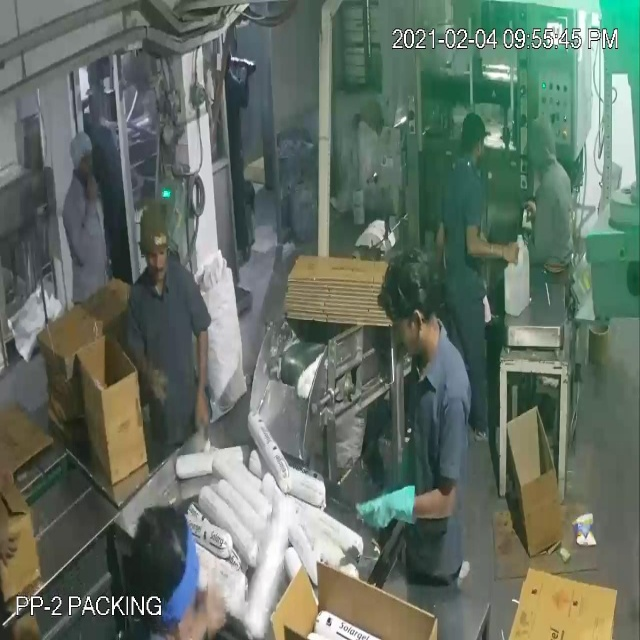Guantes: (350, 476, 428, 556)
Sin_guantes: (464, 215, 527, 282), (188, 309, 218, 444), (126, 326, 169, 407), (78, 173, 111, 216)
